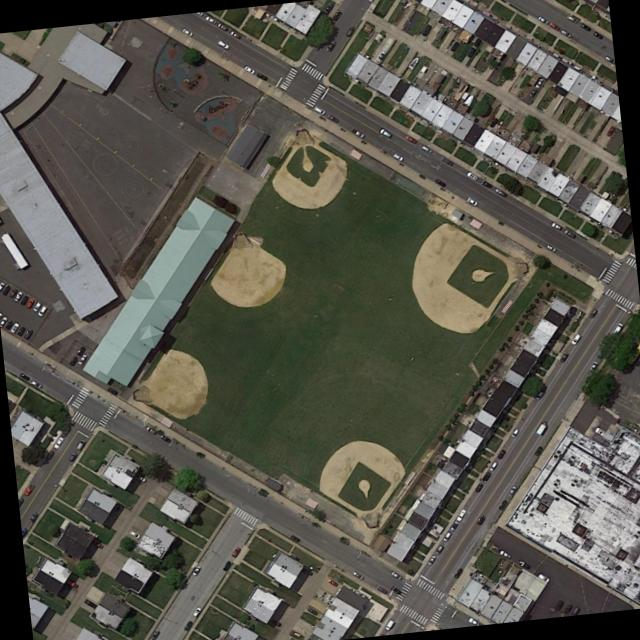large-vehicle: (592, 425, 614, 441), (589, 432, 609, 447), (533, 418, 547, 434)
ship: (461, 91, 474, 106), (406, 54, 419, 69)
small-vehicle: (81, 596, 96, 609), (51, 433, 63, 449), (377, 125, 391, 138), (311, 102, 325, 115), (438, 154, 453, 166), (22, 480, 34, 495), (35, 302, 47, 317), (610, 321, 623, 334), (349, 126, 363, 138), (7, 320, 19, 334), (304, 604, 318, 616), (59, 423, 71, 437), (561, 227, 576, 238), (547, 219, 562, 230), (21, 325, 32, 340), (202, 13, 217, 24), (556, 349, 568, 362), (552, 597, 564, 610), (324, 38, 336, 51), (181, 618, 193, 631), (30, 299, 42, 312), (11, 289, 23, 302), (14, 323, 26, 336), (419, 22, 431, 35), (402, 132, 416, 143), (343, 24, 354, 38), (515, 558, 529, 569), (454, 506, 465, 520), (496, 496, 507, 510), (505, 483, 516, 497), (350, 568, 364, 579), (387, 583, 401, 594), (74, 436, 85, 450), (23, 295, 34, 309), (18, 292, 29, 306), (492, 187, 507, 197), (189, 605, 201, 617), (535, 571, 548, 582), (17, 370, 30, 381), (0, 282, 11, 295), (330, 7, 341, 20), (216, 38, 229, 49), (322, 1, 333, 14), (432, 177, 446, 187), (254, 71, 268, 81), (448, 517, 458, 531), (126, 528, 140, 538), (569, 331, 580, 343), (532, 388, 543, 400), (479, 178, 491, 189), (451, 566, 462, 578), (474, 512, 485, 524), (480, 470, 491, 482), (43, 448, 54, 460), (565, 12, 577, 23), (179, 25, 191, 36), (215, 20, 227, 31), (158, 432, 170, 443), (229, 545, 240, 557), (2, 317, 12, 330), (464, 170, 477, 180), (464, 195, 477, 205), (324, 112, 337, 122), (497, 547, 510, 557), (487, 458, 497, 471), (389, 569, 402, 579), (66, 449, 76, 462), (28, 377, 41, 387), (7, 285, 17, 298), (535, 14, 548, 24), (464, 44, 474, 57), (190, 562, 200, 575), (531, 444, 542, 455), (242, 63, 253, 74), (67, 354, 78, 365), (587, 358, 597, 370), (587, 307, 597, 319), (487, 115, 497, 127), (390, 151, 402, 161), (425, 553, 435, 565), (473, 481, 483, 493), (383, 618, 393, 630), (149, 628, 159, 640), (27, 509, 37, 521), (105, 385, 117, 395), (76, 352, 86, 364), (134, 472, 146, 482), (533, 76, 543, 88), (577, 20, 589, 30), (547, 20, 559, 30), (448, 39, 458, 51), (143, 424, 155, 434), (220, 559, 230, 571), (418, 143, 431, 152), (509, 426, 519, 437), (544, 242, 555, 252), (325, 577, 336, 587), (74, 345, 85, 355), (605, 124, 614, 136), (441, 529, 450, 541), (287, 533, 299, 542), (527, 85, 536, 97), (558, 27, 570, 36), (495, 448, 505, 458), (432, 543, 442, 553), (375, 584, 386, 593), (229, 29, 240, 38), (562, 603, 572, 612), (376, 49, 385, 59), (591, 29, 601, 38), (471, 36, 480, 46)
